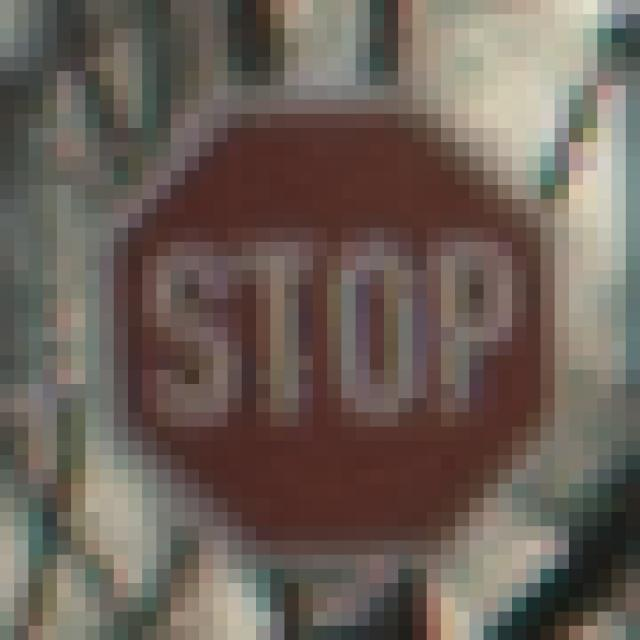STOP: (72, 72, 570, 570)
